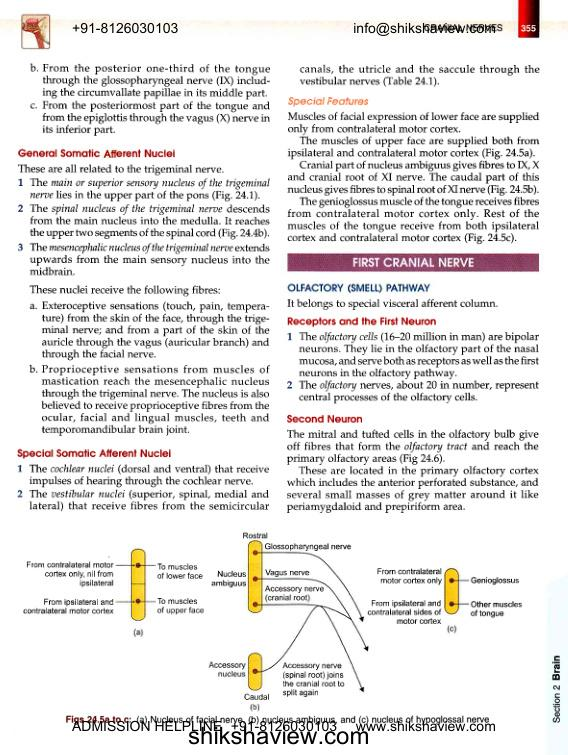caption: (64, 714, 491, 724), (132, 627, 144, 638), (446, 624, 457, 634), (249, 703, 260, 712)
image: (17, 521, 531, 713)
list: (28, 298, 270, 438), (17, 176, 271, 277), (285, 331, 540, 405), (29, 62, 271, 137), (16, 462, 271, 513), (297, 63, 541, 87)
section-heading: (351, 255, 475, 269)
sub-section-heading: (16, 447, 172, 460), (17, 147, 176, 159), (286, 316, 438, 328), (286, 282, 431, 294), (286, 95, 370, 108), (286, 413, 364, 425)
text: (286, 110, 542, 246), (286, 428, 540, 515), (285, 297, 500, 313), (17, 163, 226, 176), (28, 284, 221, 298)
